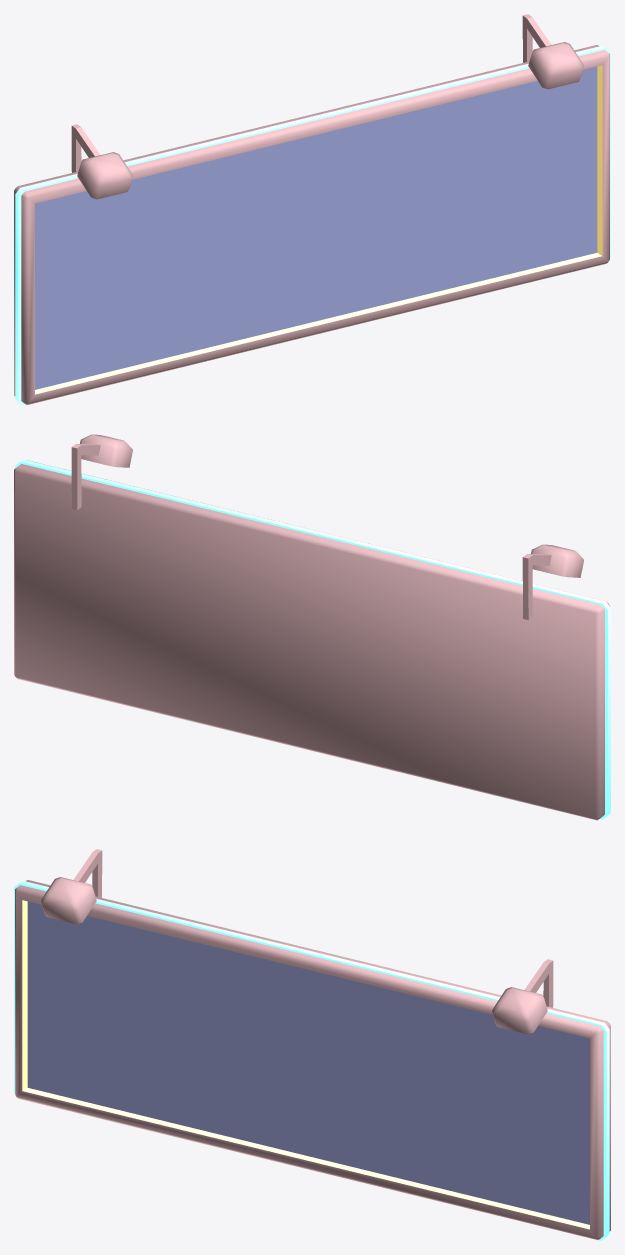
The model's file is PH_mesh_SpaceShip_ScoreBoard.fbx.
The picture shows the model from 3 angles, top to bottom: view 1: azimuth 30°, elevation 25°; view 2: azimuth 150°, elevation 25°; view 3: azimuth 330°, elevation 25°; orthographic projection.
Parts seen in each view (by area): view 1: LeadBoards; view 2: LeadBoards; view 3: LeadBoards.
Part boxes in pixels (x1=…): LeadBoards: x1=14, y1=14, x2=610, y2=405; LeadBoards: x1=14, y1=434, x2=610, y2=820; LeadBoards: x1=14, y1=849, x2=610, y2=1240.
Size of the model in its own units: 10.4 by 4.26 by 1.26.
